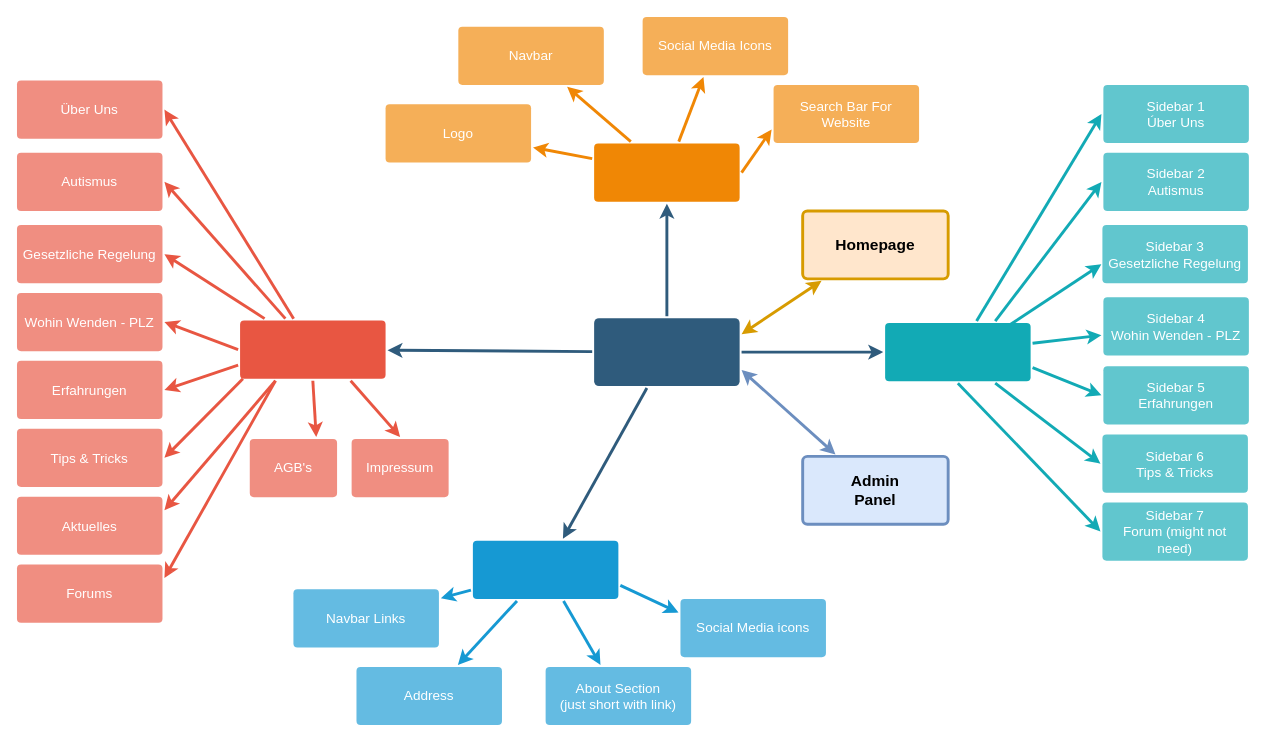
The diagram is 1265 pixels wide and 741 high, and some of its shapes have lost their labels. The shapes that lost their labels are listed below. From the top down, each one's centre as x and y in pixels, then its label:
the point at 666,172: Header
the point at 312,349: Sub Pages
the point at 666,352: Website Autismus Welt
the point at 957,352: Sidebars
the point at 545,569: Footer
